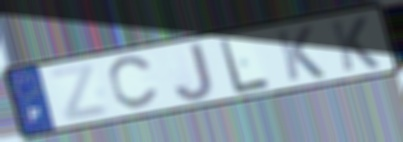C: (105, 53, 161, 112)
J: (172, 40, 216, 103)
K: (273, 24, 329, 83), (328, 14, 383, 74)
L: (217, 36, 273, 96)
Z: (45, 60, 113, 124)
